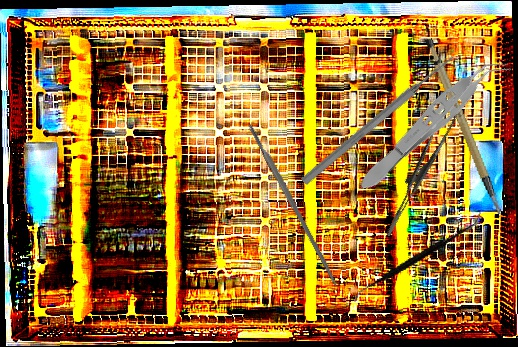Pusher: (299, 51, 458, 188)
Scalpel Handle: (246, 121, 341, 289), (422, 31, 503, 223)
Spatula Surgical: (351, 178, 483, 335)
Tissue Forceps: (351, 45, 514, 200), (366, 106, 470, 237)
